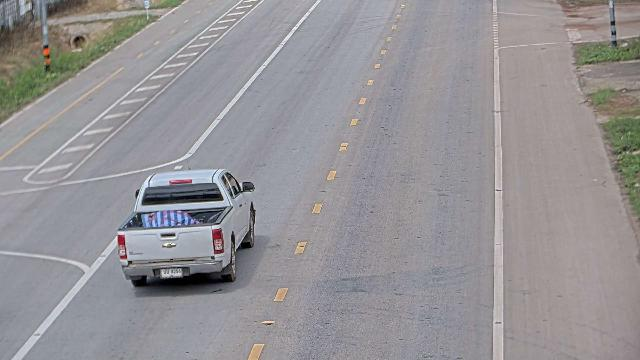pickup-truck: (116, 167, 256, 287)
